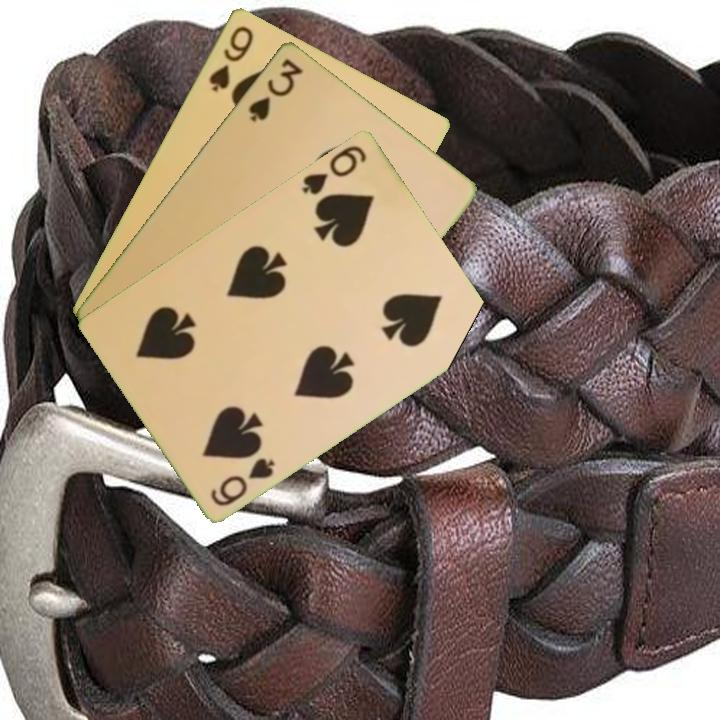3s: (245, 54, 306, 125)
6s: (298, 141, 370, 197), (206, 453, 278, 509)
9s: (205, 21, 257, 94)
